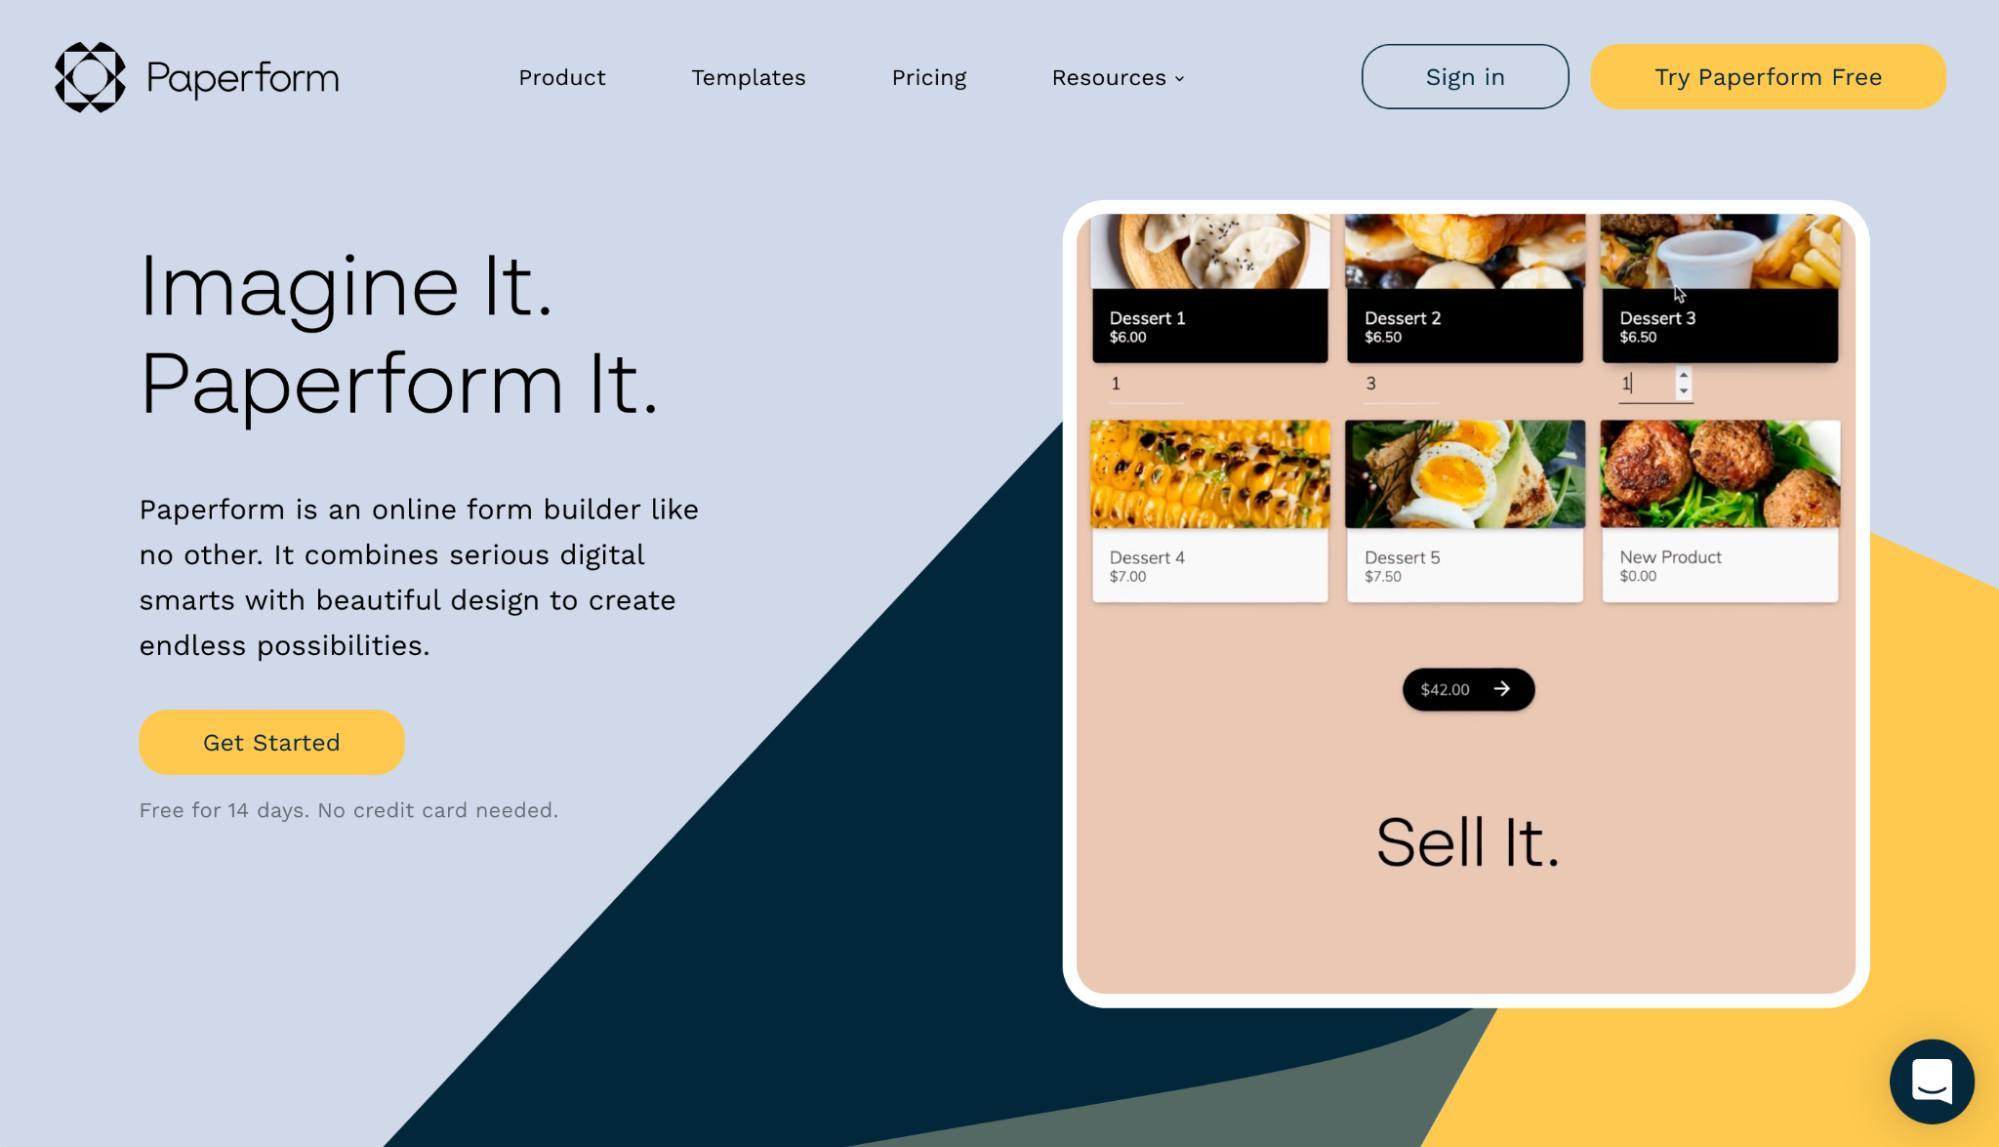button: (1591, 43, 1948, 111), (136, 706, 406, 777), (1359, 44, 1573, 111), (1405, 669, 1538, 713)
icon: (1908, 1054, 1966, 1111)
label: (148, 56, 340, 104), (1037, 63, 1204, 102), (686, 56, 816, 102), (507, 65, 619, 102), (875, 59, 973, 99)
